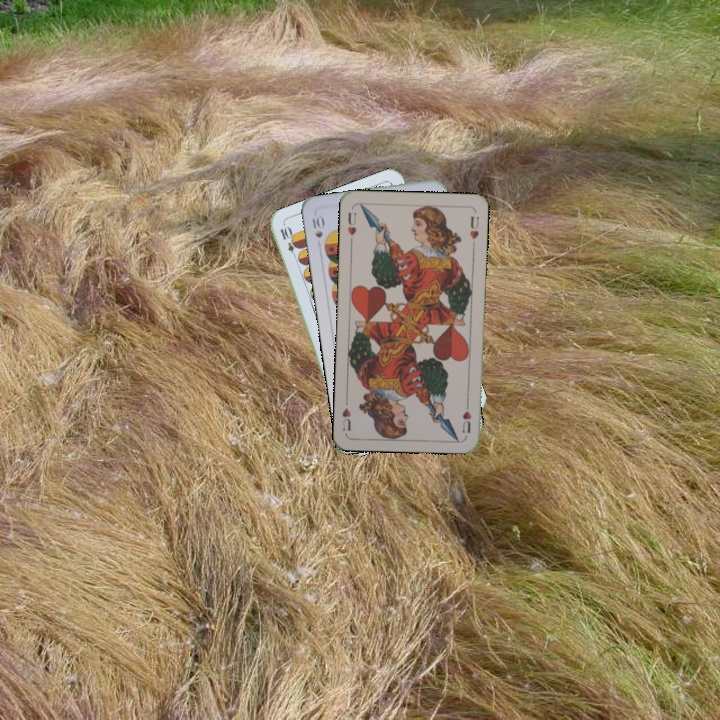E10: (276, 222, 301, 262)
HU: (458, 397, 473, 436), (344, 208, 359, 245)
S10: (307, 212, 326, 240)
